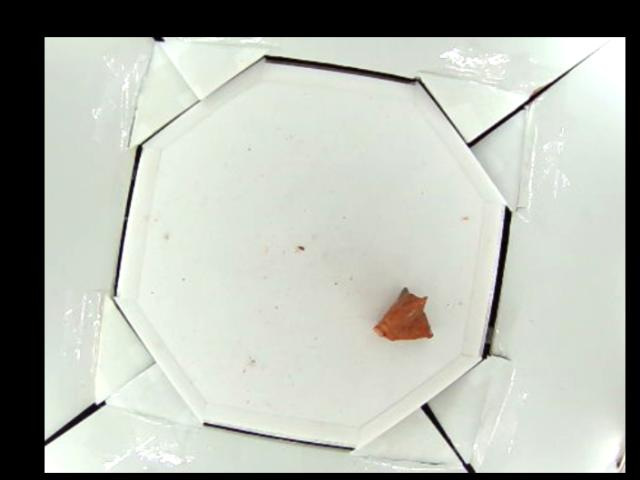Brisk: (372, 286, 433, 341)
